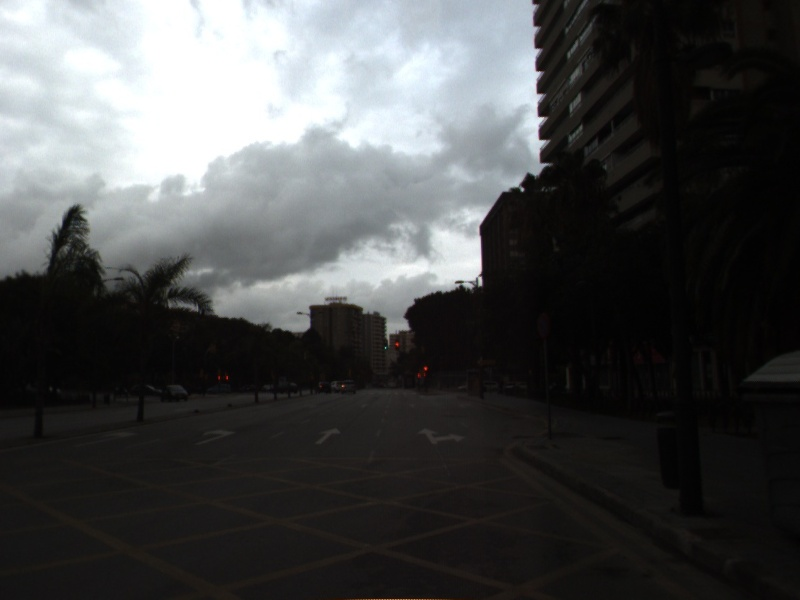LEFT: (69, 429, 140, 449), (192, 426, 239, 447)
STRAIGHT: (313, 426, 343, 446)
STRAIGHT_RIGHT: (415, 425, 467, 447)
